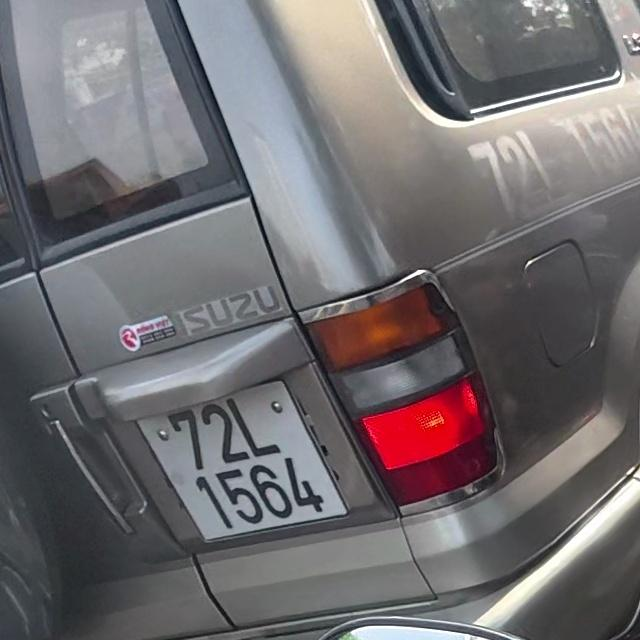license-plate: (138, 381, 347, 541)
